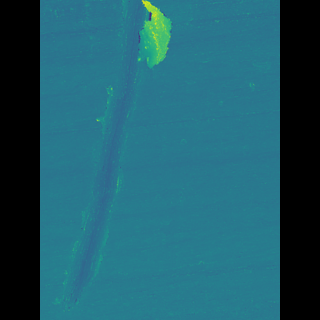Loch: (82, 0, 172, 317), (140, 0, 171, 76)
